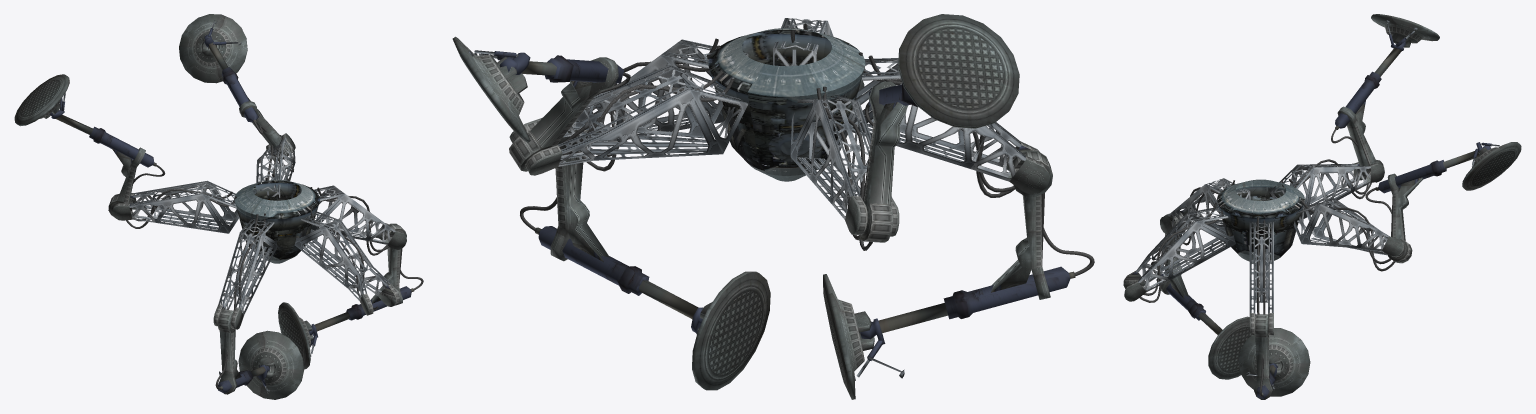
File: LandingGears.fbx
3 renders of one model, left to right at view 1: azimuth 30°, elevation 25°; view 2: azimuth 150°, elevation 25°; view 3: azimuth 270°, elevation 25°, orthographic. The views are drawn at different scales.
Parts seen in each view (by area): view 1: LandingGears; view 2: LandingGears; view 3: LandingGears.
Boxes of the visible parts, <box> form: LandingGears: <box>14,14,423,399</box>; LandingGears: <box>452,14,1094,399</box>; LandingGears: <box>1123,14,1521,399</box>.
Size of the model in its own units: 2295 by 1910 by 2295.
